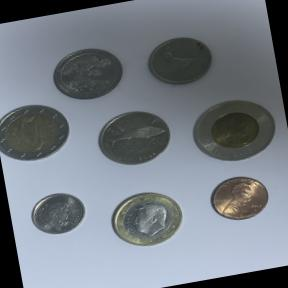coin: (180, 82, 288, 174), (99, 180, 195, 256), (88, 100, 180, 178), (46, 39, 132, 107), (0, 95, 75, 168), (200, 166, 278, 231), (24, 182, 95, 242)
